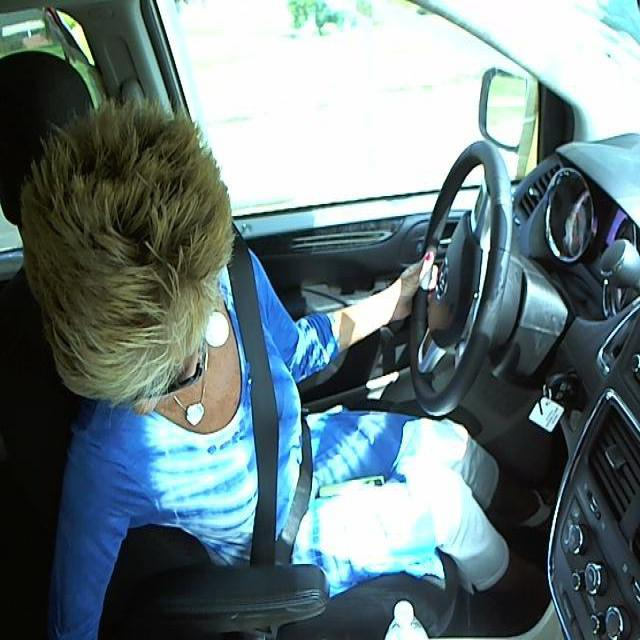seatbelt: (225, 271, 330, 560)
